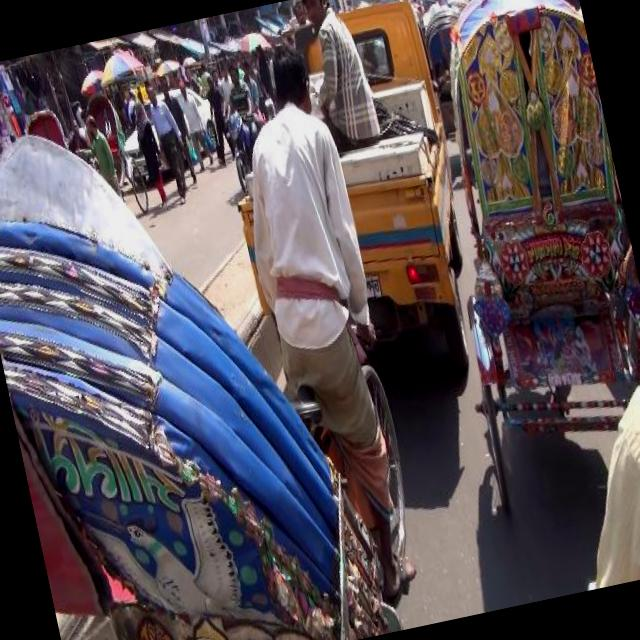motorcycle: (386, 0, 640, 527)
truck: (196, 0, 499, 409)
